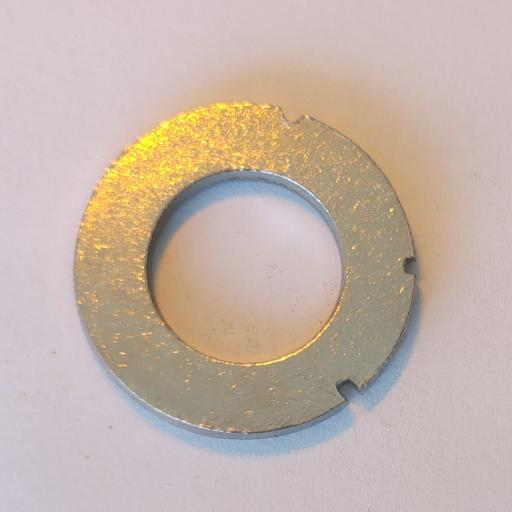burr: (335, 377, 360, 402), (279, 106, 307, 127), (401, 256, 416, 275)
